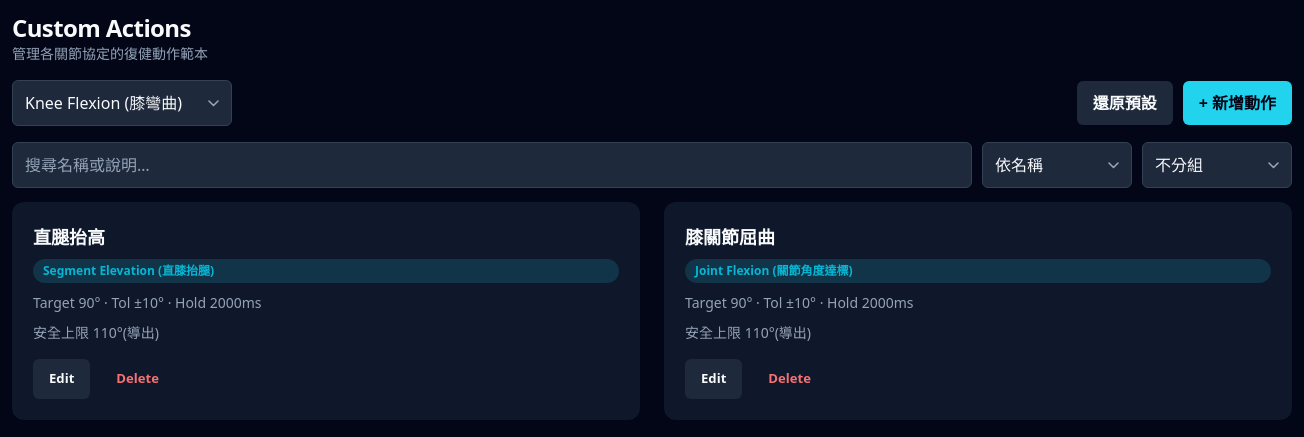
Scenario: ActionsView 空狀態 › 「清除搜尋」按下去之後動作重新出現
Type "不存在" into the search field with placeholder "搜尋名稱或說明…" at (492, 165), box x1=12 y1=142 x2=972 y2=188
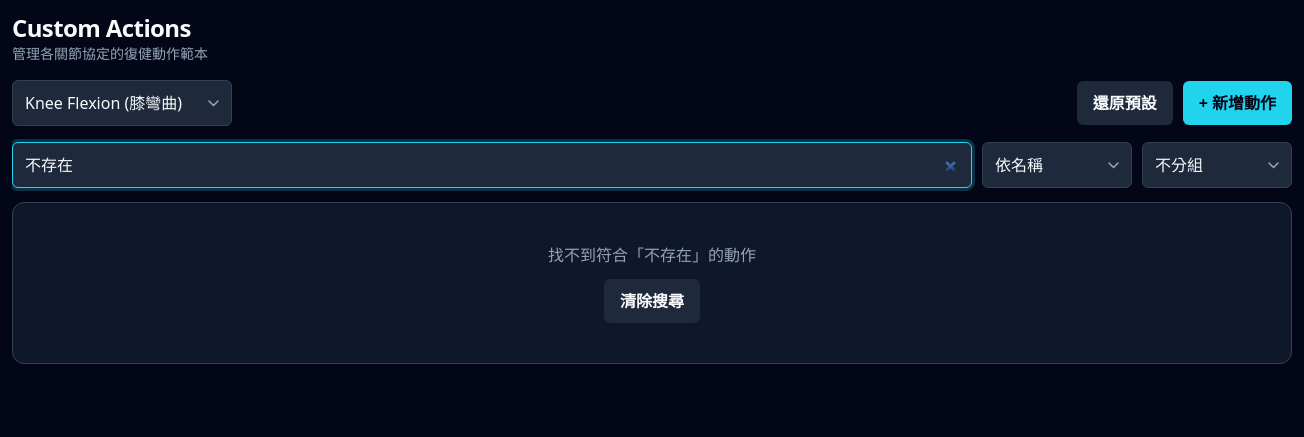
Click the button "清除搜尋" at (652, 301), box x1=604 y1=279 x2=700 y2=323
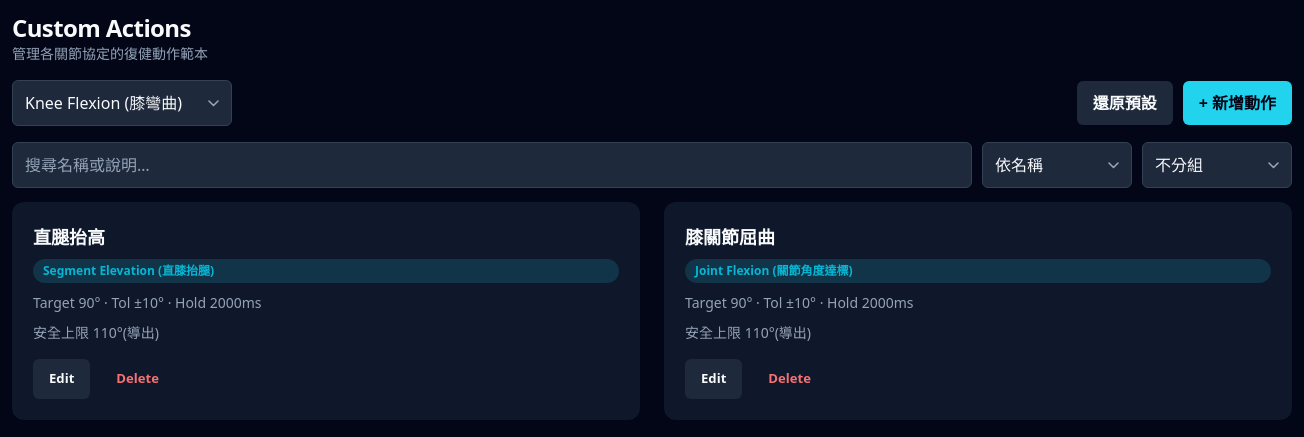
Expected: the heading "膝關節屈曲" is shown, x1=685 y1=225 x2=775 y2=249
Expected: the heading "直腿抬高" is shown, x1=33 y1=225 x2=105 y2=249
